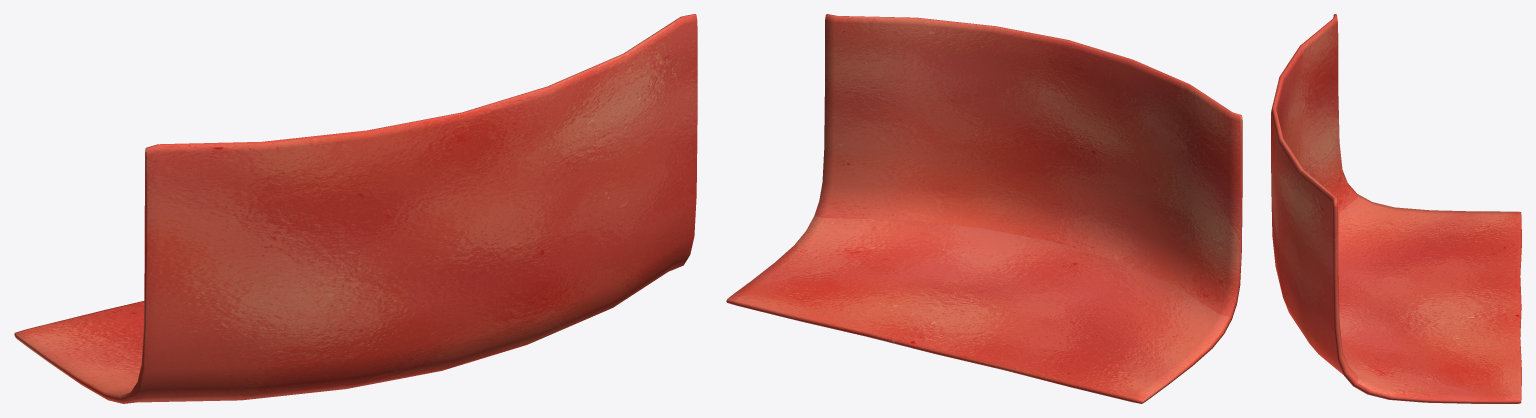
The model's file is BGnariz1.fbx.
The picture shows the model from 3 angles, left to right: view 1: azimuth 30°, elevation 25°; view 2: azimuth 150°, elevation 25°; view 3: azimuth 270°, elevation 25°; orthographic projection. The views are drawn at different scales.
Visible parts, largest first — view 1: BGpeloNariz.001; view 2: BGpeloNariz.001; view 3: BGpeloNariz.001.
Part boxes in pixels (bbox=[...]): BGpeloNariz.001: bbox=[14, 14, 697, 403]; BGpeloNariz.001: bbox=[726, 14, 1242, 403]; BGpeloNariz.001: bbox=[1271, 14, 1521, 403].
Bounding box in the file's own units: 3671 × 1832 × 2055.
